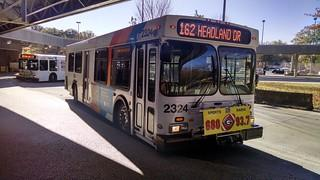bus: (65, 13, 261, 154), (18, 49, 67, 83)
